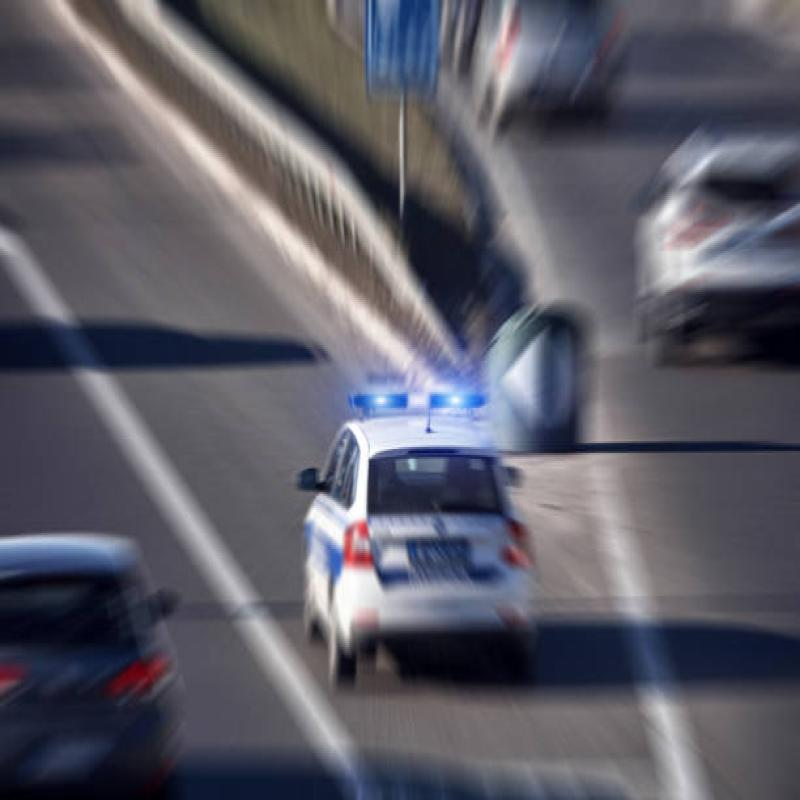AmbulanceSiren: (336, 359, 494, 424)
